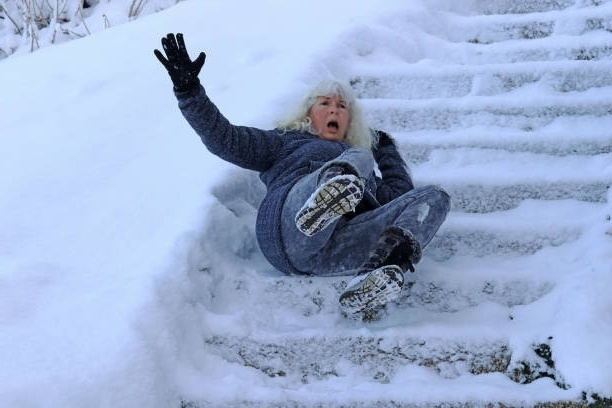fall: (151, 29, 455, 316)
